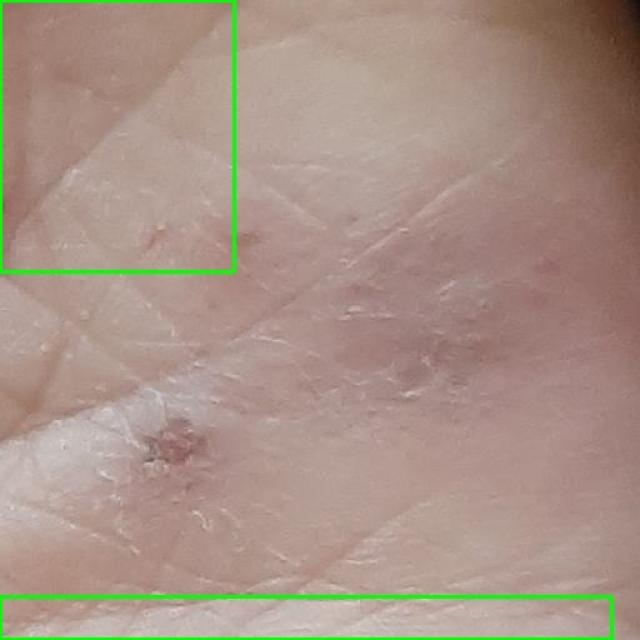Contact Dermatitis: (0, 0, 234, 271), (0, 596, 611, 639)
